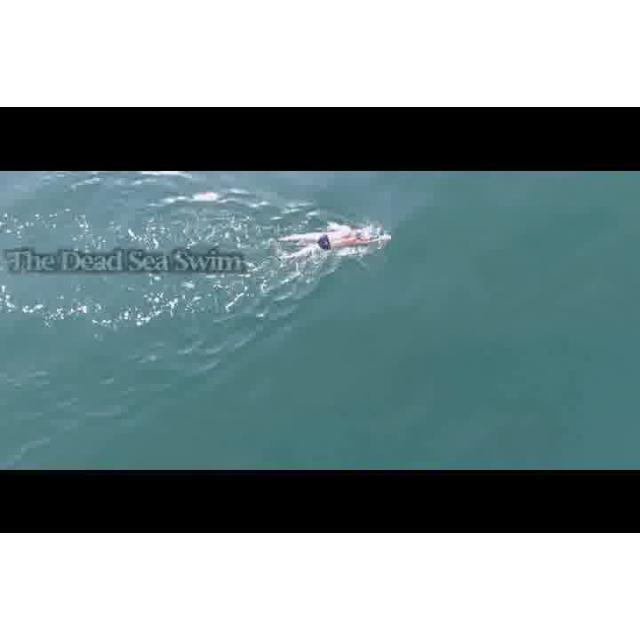human: (275, 230, 395, 262)
